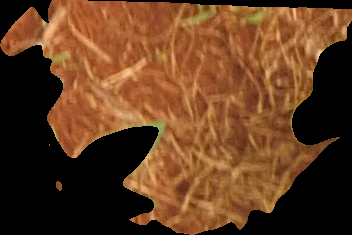soil: (2, 1, 350, 235)
